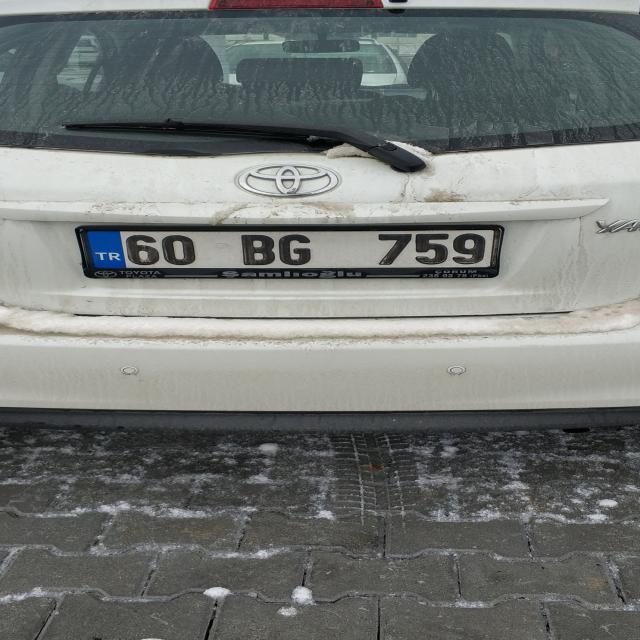plate: (80, 228, 496, 269)
